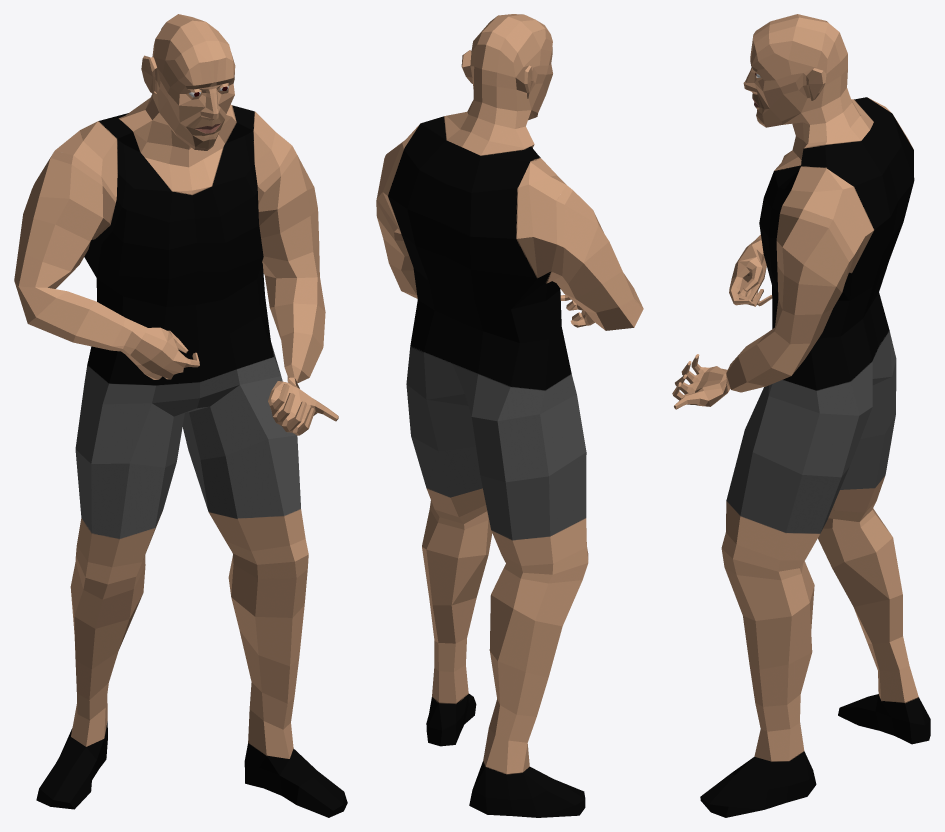
The model's file is PlayerIdle(63).obj.
3 renders of one model, left to right at view 1: azimuth 30°, elevation 25°; view 2: azimuth 150°, elevation 25°; view 3: azimuth 270°, elevation 25°, orthographic. The views are drawn at different scales.
Parts seen in each view (by area): view 1: Plane002; view 2: Plane002; view 3: Plane002.
Part boxes in pixels (x1,y1,x2,y2): Plane002: (14,14,347,817); Plane002: (376,14,643,817); Plane002: (672,14,930,817).
Bounding box in the file's own units: 670 × 1800 × 565.
